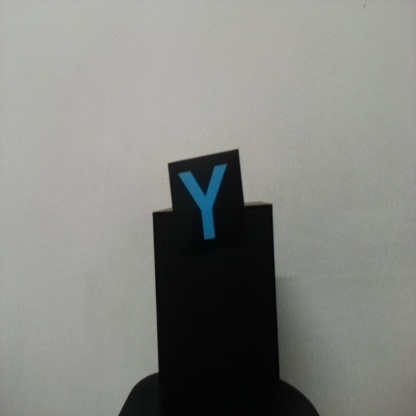id_14: (169, 162, 244, 251)
